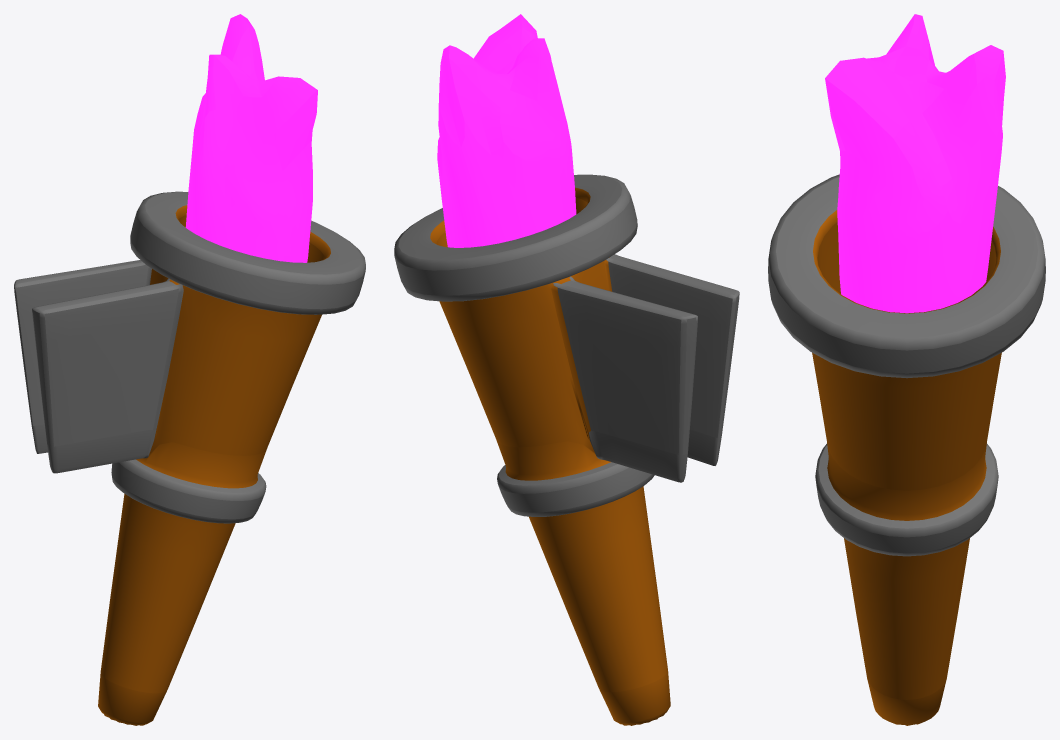
File: mesale.fbx
The picture shows the model from 3 angles, left to right: view 1: azimuth 30°, elevation 25°; view 2: azimuth 150°, elevation 25°; view 3: azimuth 270°, elevation 25°; orthographic projection. The views are drawn at different scales.
Parts seen in each view (by area): view 1: Circle, Circle.001; view 2: Circle, Circle.001; view 3: Circle, Circle.001.
Part boxes in pixels (x1=…): Circle: x1=14, y1=191, x2=365, y2=725; Circle.001: x1=185, y1=14, x2=317, y2=262; Circle: x1=394, y1=174, x2=739, y2=725; Circle.001: x1=437, y1=14, x2=576, y2=247; Circle: x1=768, y1=174, x2=1045, y2=725; Circle.001: x1=825, y1=14, x2=1005, y2=313.
Bounding box in the file's own units: 159 × 311 × 104.
